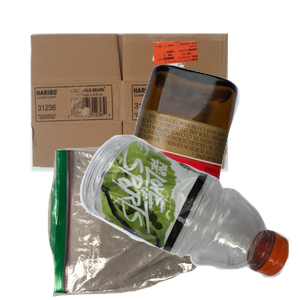cardboard: (28, 31, 249, 195)
glass: (113, 62, 300, 242)
plastic: (77, 132, 300, 300)
trash: (45, 144, 235, 300)
